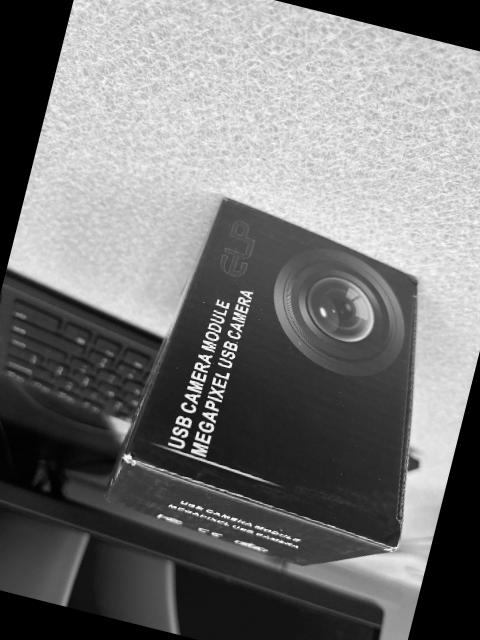CameraBox2: (104, 195, 418, 563)
